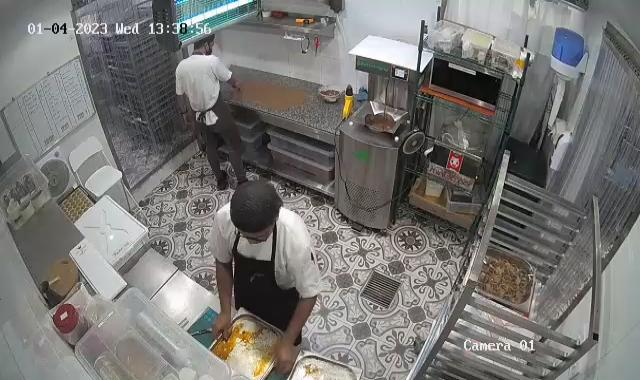no_hairnet: (233, 176, 283, 239)
